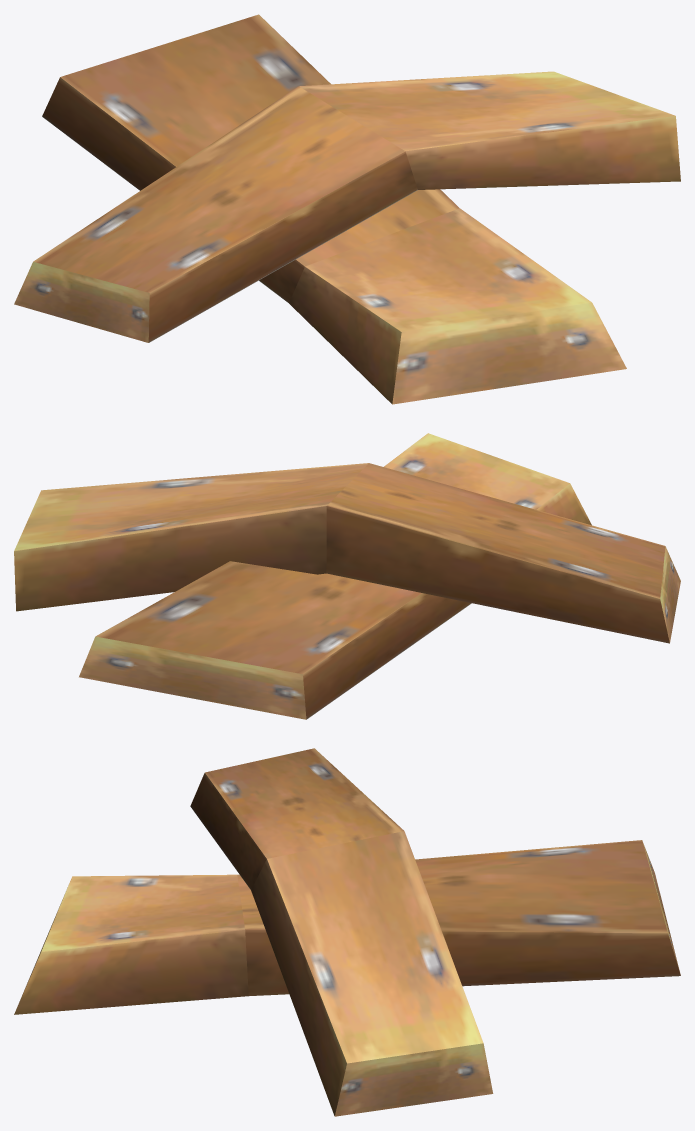
The model's file is gnomesteelplate03.obj.
The picture shows the model from 3 angles, top to bottom: view 1: azimuth 30°, elevation 25°; view 2: azimuth 150°, elevation 25°; view 3: azimuth 270°, elevation 25°; orthographic projection. The views are drawn at different scales.
Visible parts, largest first — view 1: gnomesteelplate03; view 2: gnomesteelplate03; view 3: gnomesteelplate03.
Part boxes in pixels (x1,y1,x2,y2): gnomesteelplate03: (14,14,680,404); gnomesteelplate03: (14,433,680,719); gnomesteelplate03: (14,748,680,1116).
Bounding box in the file's own units: 2.76 × 0.5875 × 2.63.
1 material, 1 textured.
